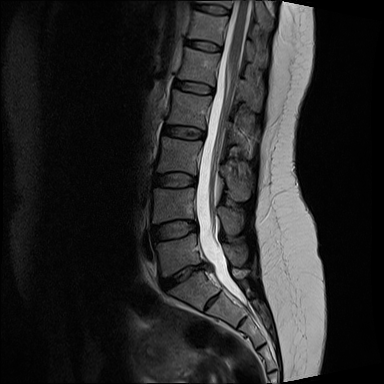Degenerative Disc Disease DDD: (158, 257, 215, 292)
Lumbar Disc Bulge LDB: (152, 255, 223, 296), (144, 220, 204, 243)
Normal IVD: (146, 169, 202, 191), (162, 120, 209, 145), (172, 74, 217, 98), (180, 35, 225, 56), (192, 2, 233, 18)
Spinal Stenosis SS: (197, 254, 218, 281), (188, 215, 203, 239)
